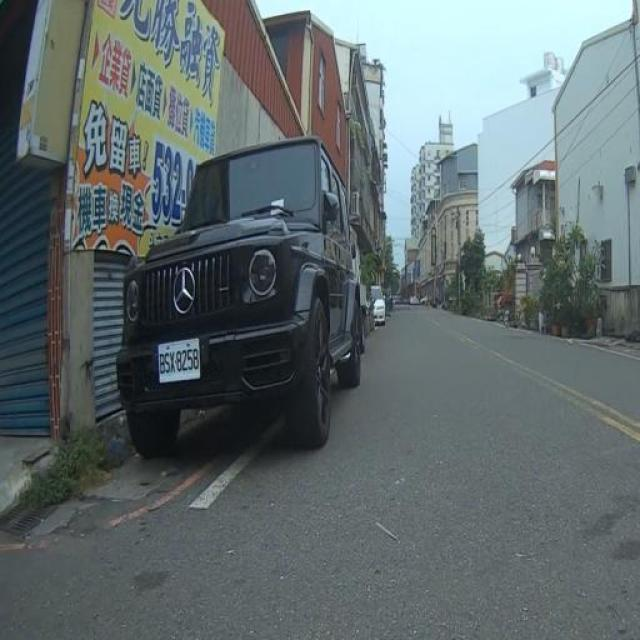illegalparking: (88, 113, 430, 514)
